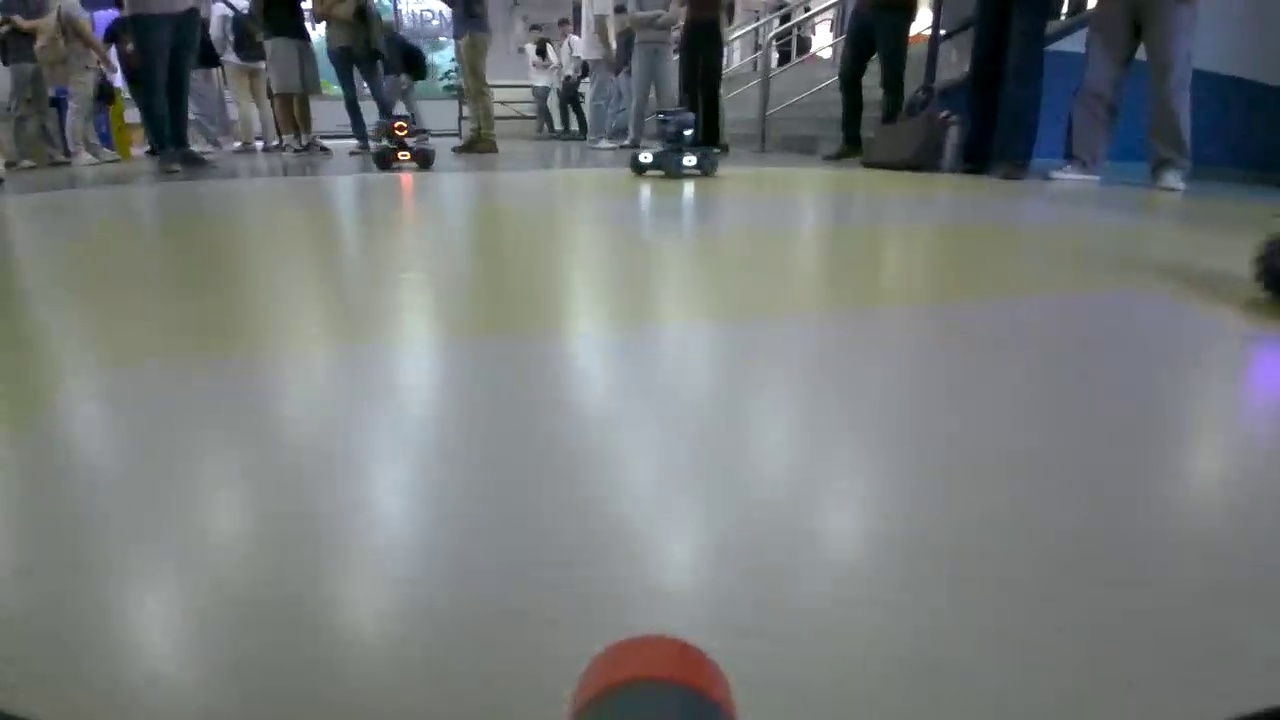robot: (632, 108, 719, 180), (371, 111, 436, 170)
